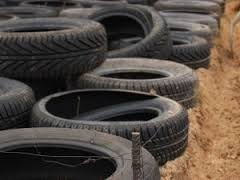tire: (29, 90, 187, 166), (1, 127, 160, 180), (66, 57, 199, 111), (63, 6, 173, 68), (1, 16, 108, 79), (100, 32, 213, 70)
